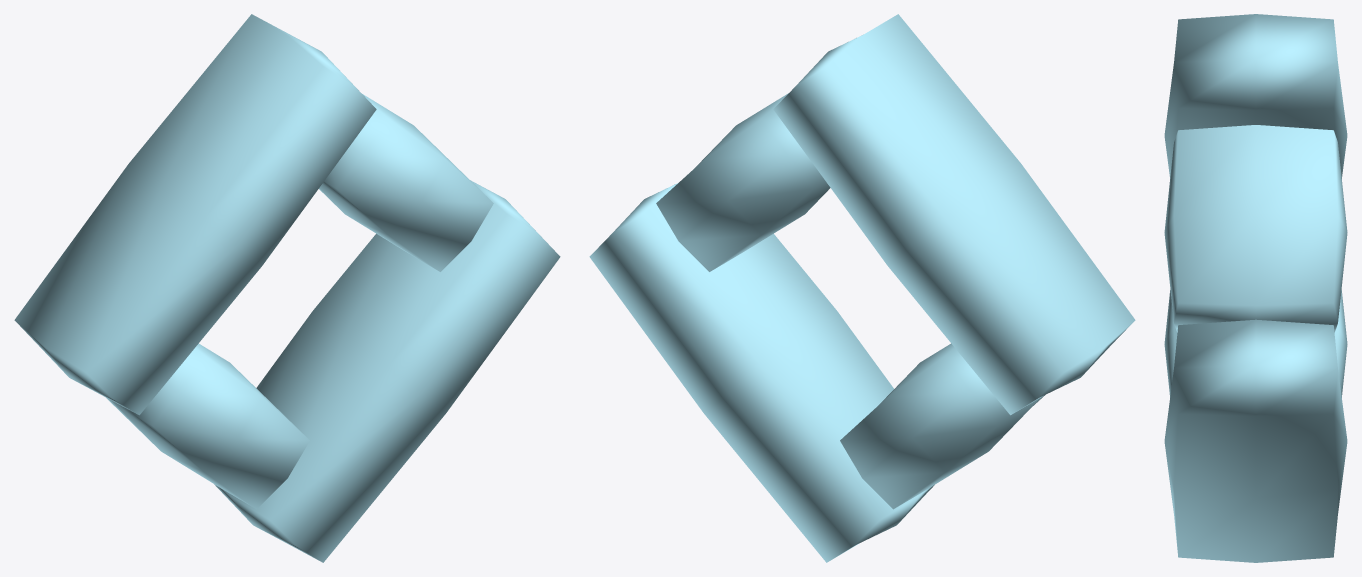
The model's file is StruggleOrbKite.glb.
3 renders of one model, left to right at view 1: azimuth 30°, elevation 25°; view 2: azimuth 150°, elevation 25°; view 3: azimuth 270°, elevation 25°, orthographic. The views are drawn at different scales.
Visible parts, largest first — view 1: Orb; view 2: Orb; view 3: Orb.
Boxes of the visible parts, x1,y1,x2,y2 form: Orb: (14,14,560,562); Orb: (589,14,1135,562); Orb: (1164,14,1347,562).
Size of the model in its own units: 1.49 by 1.49 by 0.45.
